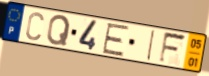4: (77, 18, 99, 53)
C: (24, 11, 46, 42)
E: (101, 22, 131, 58)
F: (157, 31, 188, 65)
I: (145, 28, 157, 62)
Q: (45, 14, 72, 47)
